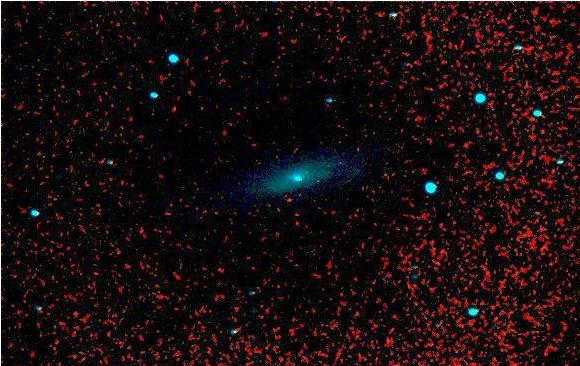star: (273, 185, 303, 215)
